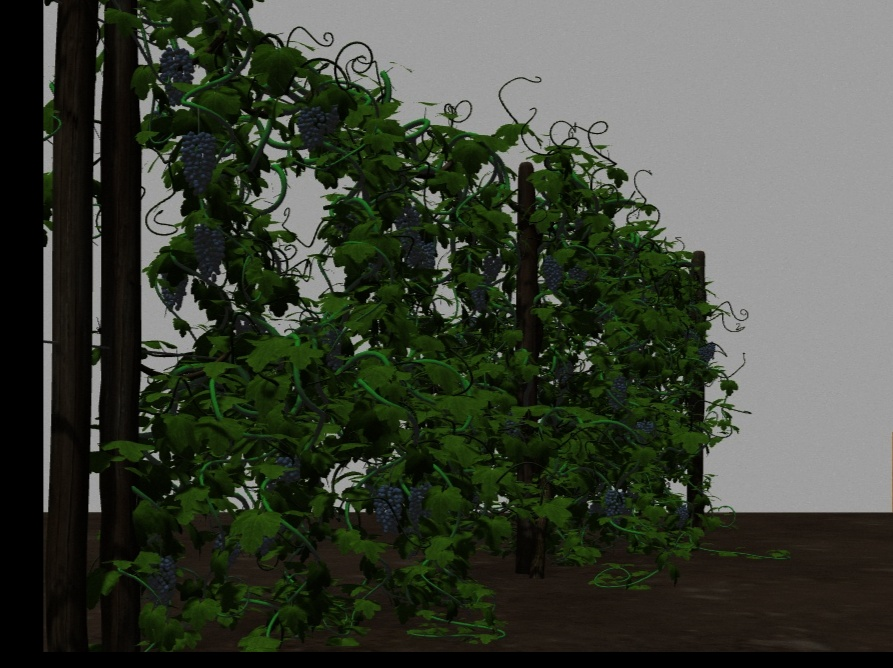grape: (180, 131, 218, 194), (188, 224, 227, 279), (159, 45, 194, 106), (144, 558, 177, 605), (373, 486, 405, 533), (295, 107, 325, 151), (408, 483, 432, 524), (322, 330, 346, 370), (395, 209, 420, 244), (541, 254, 564, 292), (604, 489, 626, 523), (606, 376, 628, 410), (277, 456, 301, 484), (469, 280, 487, 312), (482, 253, 504, 279), (403, 240, 422, 267), (421, 242, 437, 269), (697, 342, 717, 362), (674, 505, 689, 531), (637, 421, 652, 441)
